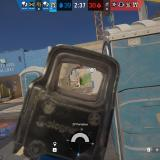Friend_label: (12, 81, 18, 86)
